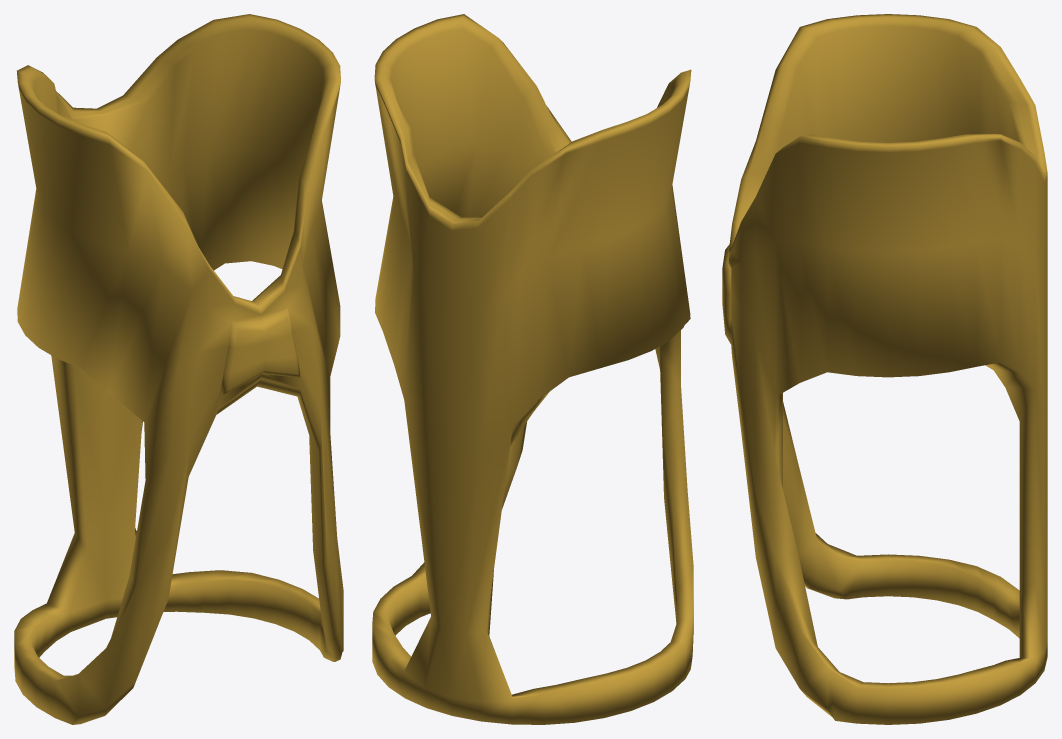
File: mirror_pillar.glb
3 renders of one model, left to right at view 1: azimuth 30°, elevation 25°; view 2: azimuth 150°, elevation 25°; view 3: azimuth 270°, elevation 25°, orthographic. The views are drawn at different scales.
Visible parts, largest first — view 1: Pillar; view 2: Pillar; view 3: Pillar.
Part boxes in pixels (left/top/right/bottom): Pillar: left=14, top=14, right=343, bottom=724; Pillar: left=372, top=14, right=693, bottom=724; Pillar: left=722, top=14, right=1047, bottom=724.
Bounding box in the file's own units: 2 × 4 × 2.04.
